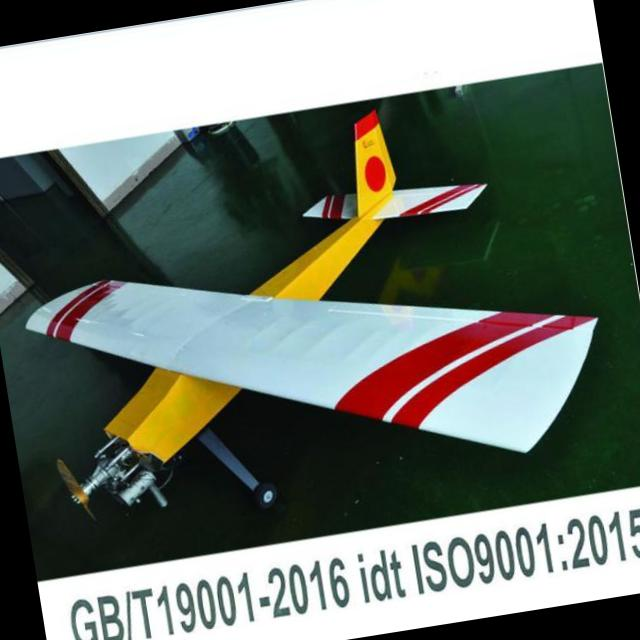UAV: (33, 173, 546, 529)
